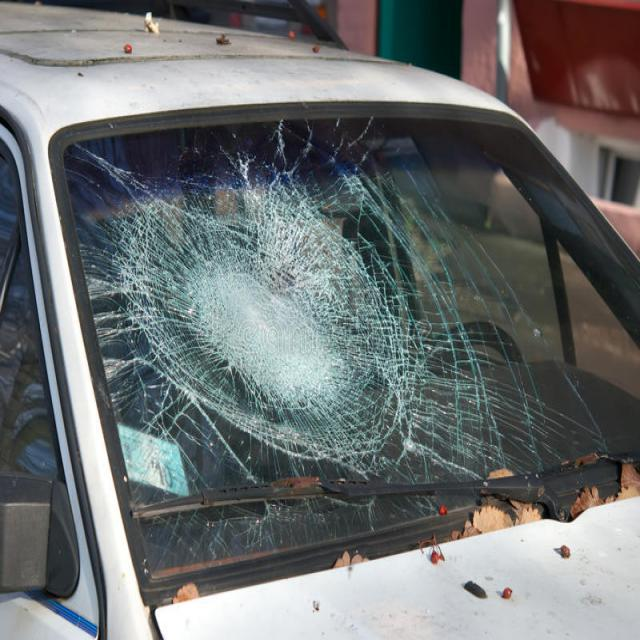Front-Windscreen-Damage: (67, 120, 582, 552)
